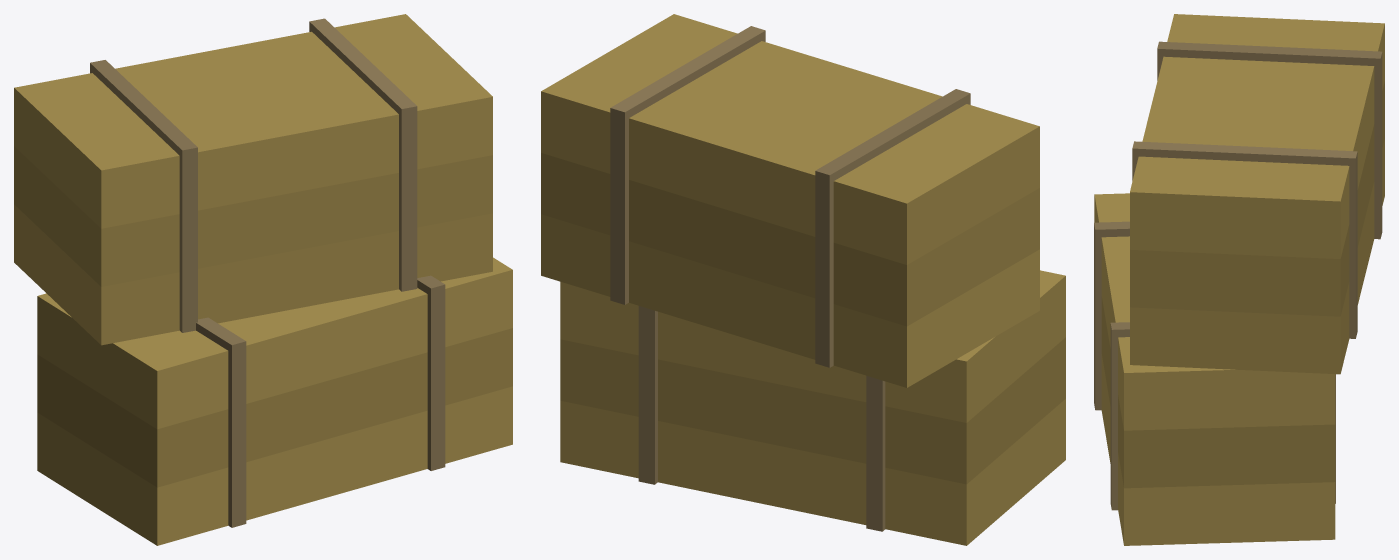
File: hay_bale.glb
The picture shows the model from 3 angles, left to right: view 1: azimuth 30°, elevation 25°; view 2: azimuth 150°, elevation 25°; view 3: azimuth 270°, elevation 25°; orthographic projection. The views are drawn at different scales.
Visible parts, largest first — view 1: hay_bale; view 2: hay_bale; view 3: hay_bale.
Part boxes in pixels (left/top/right/bottom): hay_bale: left=14, top=14, right=512, bottom=545; hay_bale: left=541, top=14, right=1065, bottom=545; hay_bale: left=1094, top=14, right=1384, bottom=545.
Size of the model in its own units: 1.05 by 0.92 by 0.6862.
